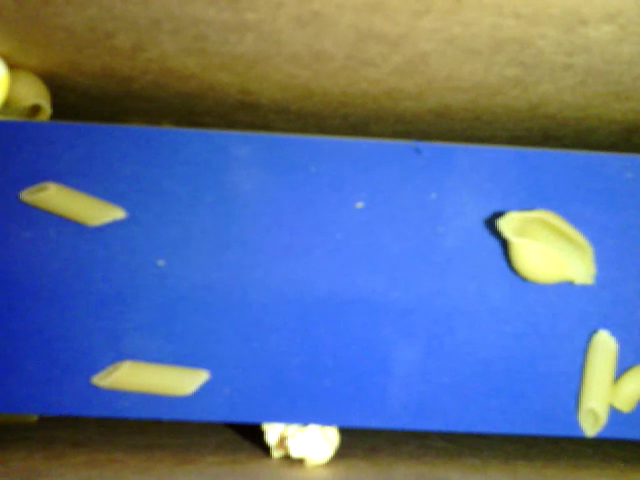penne: (18, 179, 129, 230), (573, 324, 619, 441), (85, 357, 212, 397)
shell: (492, 202, 599, 287), (2, 69, 53, 126)
